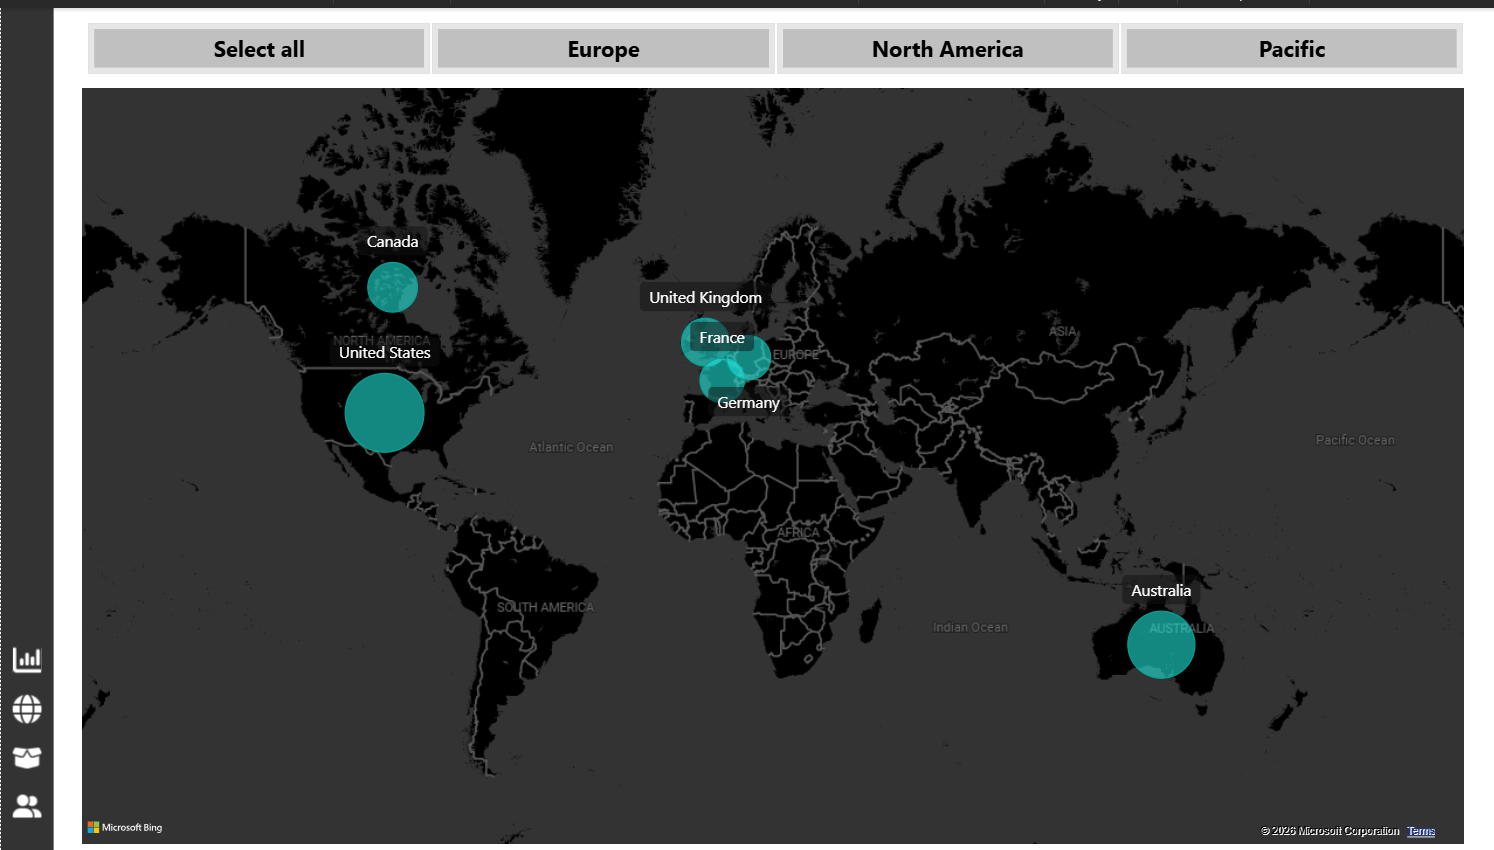

What the dashboard file says about the page in this screenshot:
{"tool":"powerbi","page":{"name":"Map","canvas":[1280,720],"ordinal":1},"visuals":[{"type":"shape","box":[0,0,45.3,720],"z":0},{"type":"actionButton","box":[0,541.6,45,32.6],"z":0,"group":"g1"},{"type":"map","fields":{"Category":["Territory Lookup.Country"],"Size":["Measure Table.Total Orders"]},"box":[64.1,63.3,1192,656.7],"z":1000},{"type":"actionButton","box":[0,583.4,45,32.6],"z":1000,"group":"g1"},{"type":"slicer","fields":{"Values":["Territory Lookup.Continent"]},"box":[48.7,6,1225.4,57.3],"z":2000},{"type":"actionButton","box":[0,625.1,45,32.6],"z":2000,"group":"g1"},{"type":"group","id":"g1","title":"Navigation Buttons","box":[0,541.6,45,157.9],"z":3000},{"type":"actionButton","box":[0,666.9,45,32.6],"z":3000,"group":"g1"}]}

Visuals, with their boxes on the page's 1280x720 design canvas (x1, y1, x2, y2). These are canvas units, not pixel positions in the 1494x850 screenshot, which may show the page scaled, cropped or inside an application window:
shape: region(0, 0, 45, 720)
actionButton: region(0, 542, 45, 574)
map - Territory Lookup.Country x Measure Table.Total Orders: region(64, 63, 1256, 720)
actionButton: region(0, 583, 45, 616)
slicer - Territory Lookup.Continent: region(49, 6, 1274, 63)
actionButton: region(0, 625, 45, 658)
"Navigation Buttons" group: region(0, 542, 45, 700)
actionButton: region(0, 667, 45, 700)
